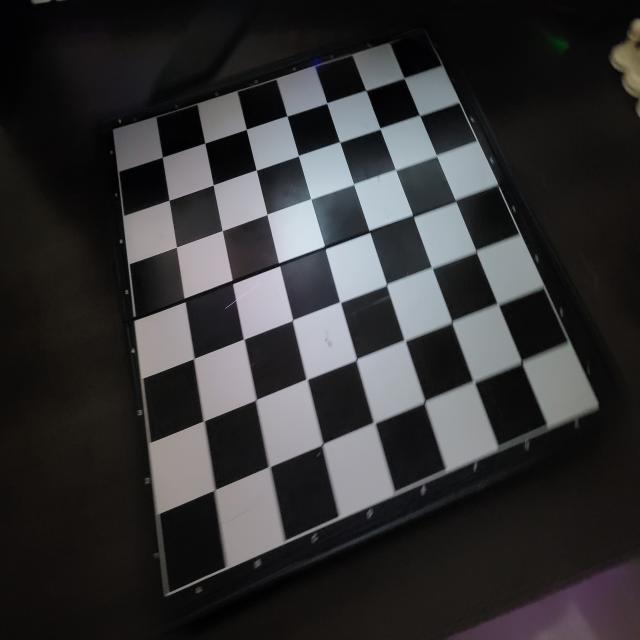chess-board: (106, 24, 608, 602)
